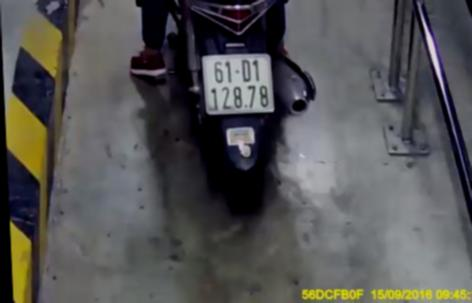License_Plate: (195, 53, 282, 117)
